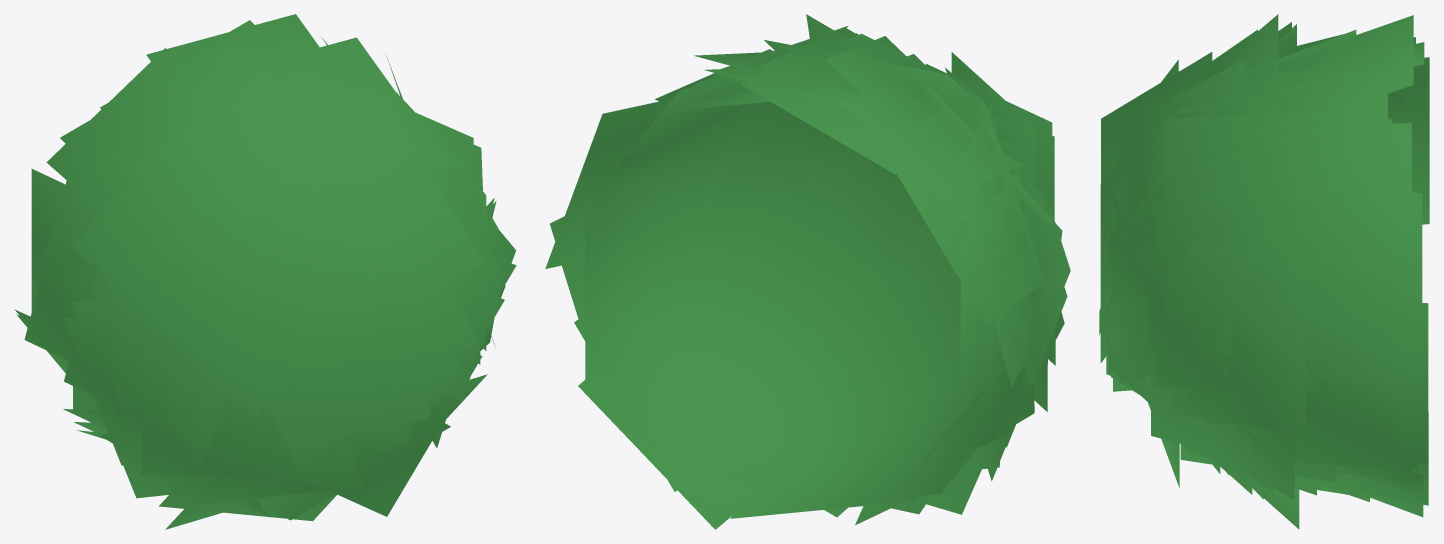
File: quaternius-bush.glb
3 renders of one model, left to right at view 1: azimuth 30°, elevation 25°; view 2: azimuth 150°, elevation 25°; view 3: azimuth 270°, elevation 25°, orthographic. The views are drawn at different scales.
Visible parts, largest first — view 1: Bush; view 2: Bush; view 3: Bush.
Part boxes in pixels (x1,y1,x2,y2): Bush: (14,14,516,529); Bush: (545,14,1070,529); Bush: (1099,14,1429,529).
Size of the model in its own units: 109 by 105 by 69.16.
